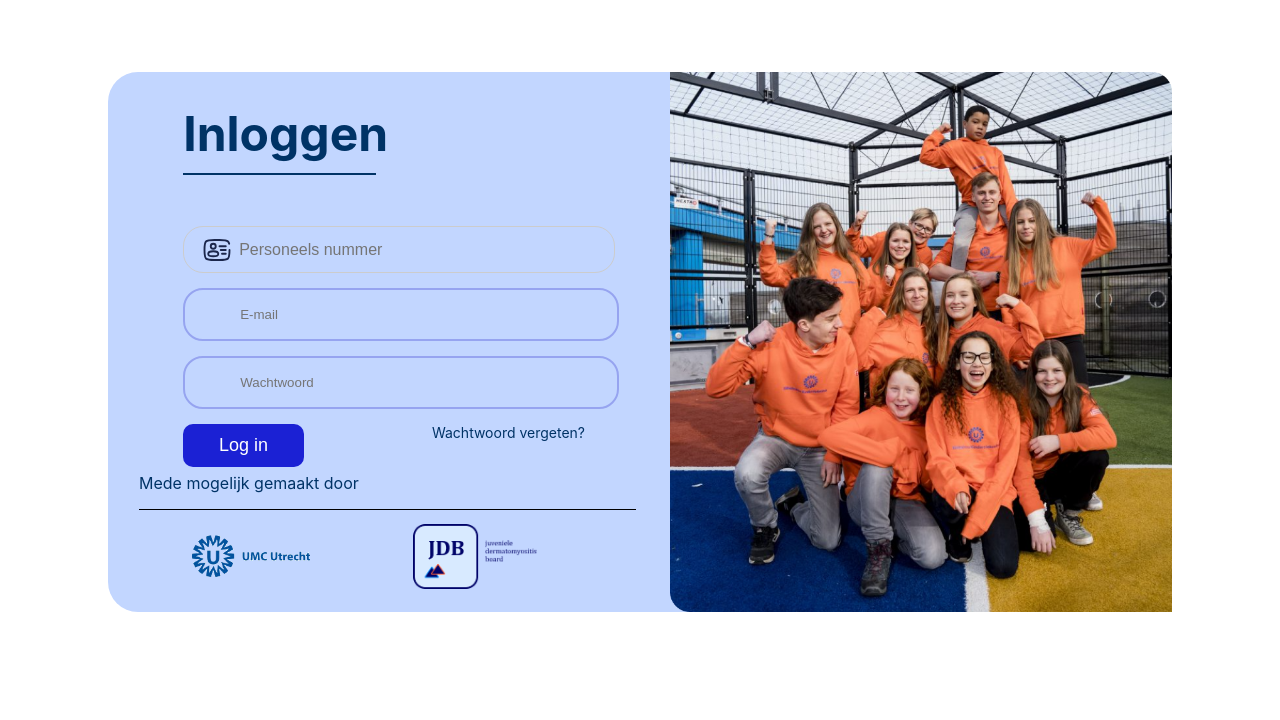
Test: Login Page › should open forgot password popup
What coordinates should you click on to do the following:
click the link "Wachtwoord vergeten?"
I would click on:
 (508, 432)
Its box is [432,424,585,440].
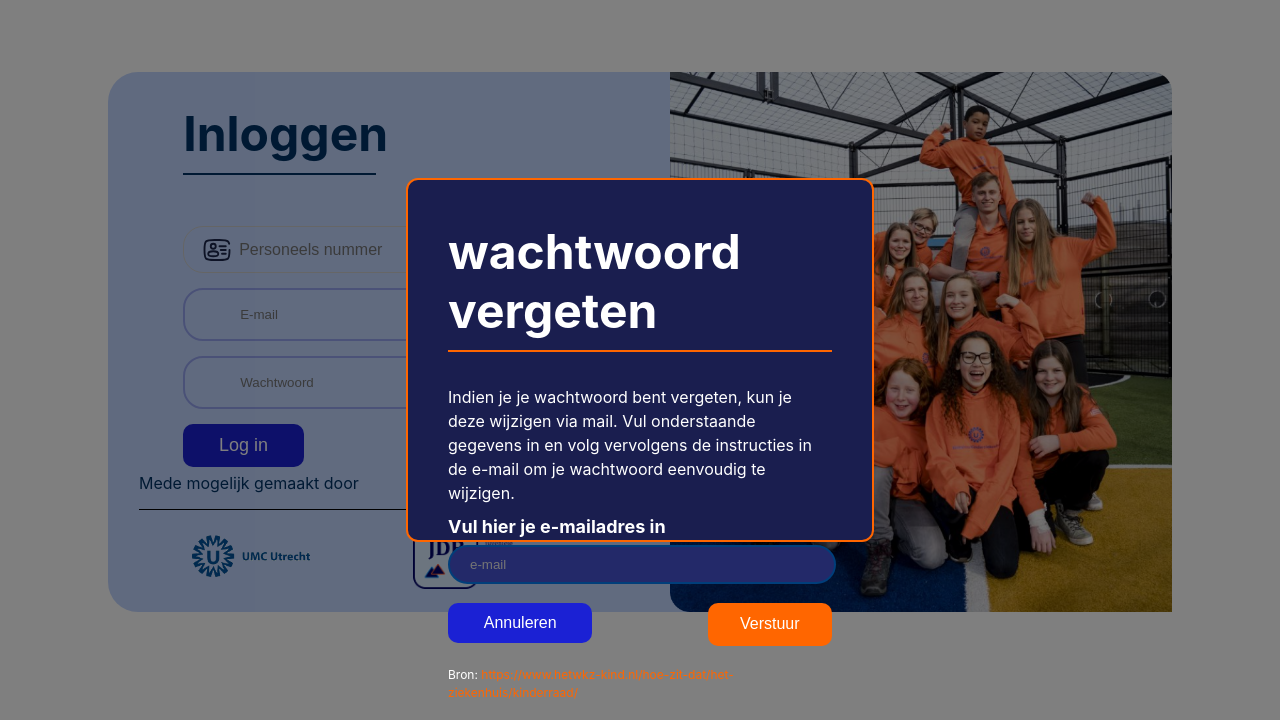
Now the element that starts with "wachtwoord vergeten" is shown
